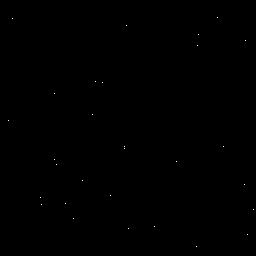i: (63, 0, 193, 256)
